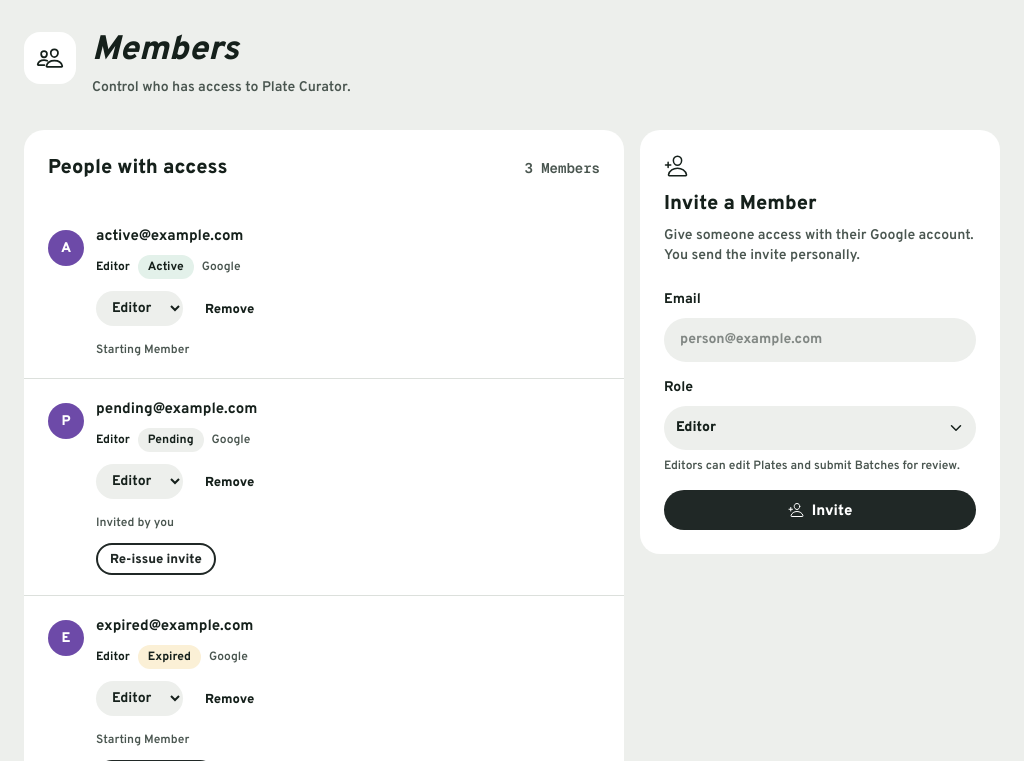
Test case: removal names the email, cancels safely, and restores focus to the row
This screenshot has width=1024, height=761.
Click the button with aria-label "Remove active@example.com".
click(230, 308)  # box [191,292,268,324]
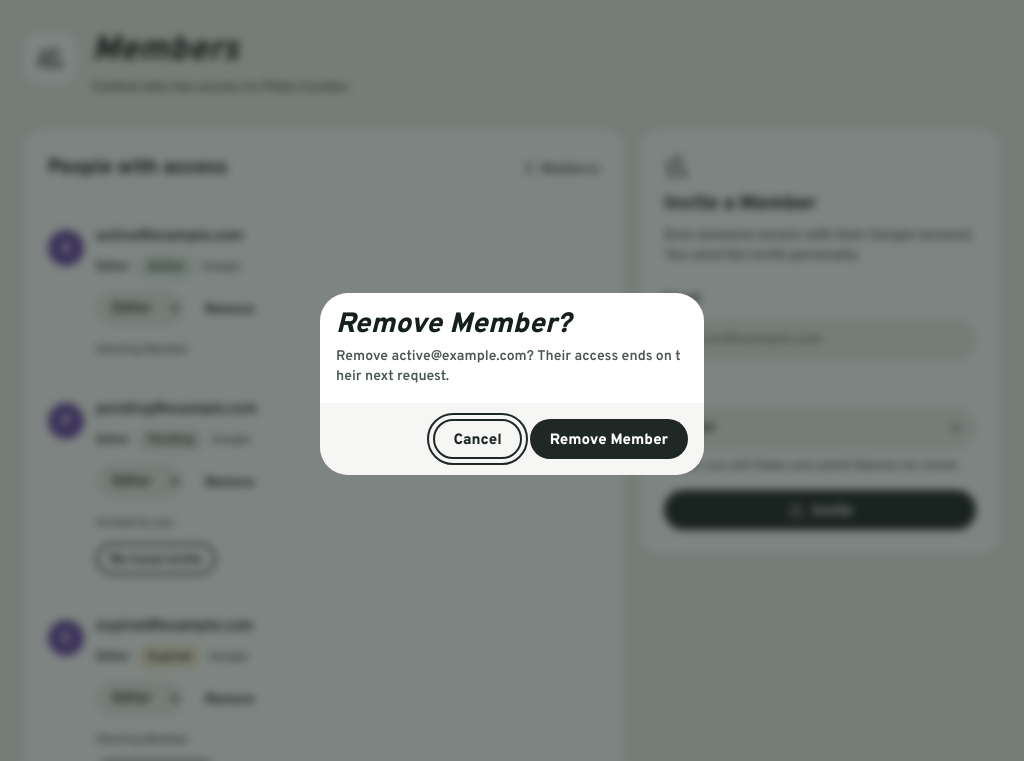
Check: the dialog shows "Remove active@example.com?", box [320,293,704,475]
Click the button "Cancel".
click(478, 439)  # box [433,419,522,459]
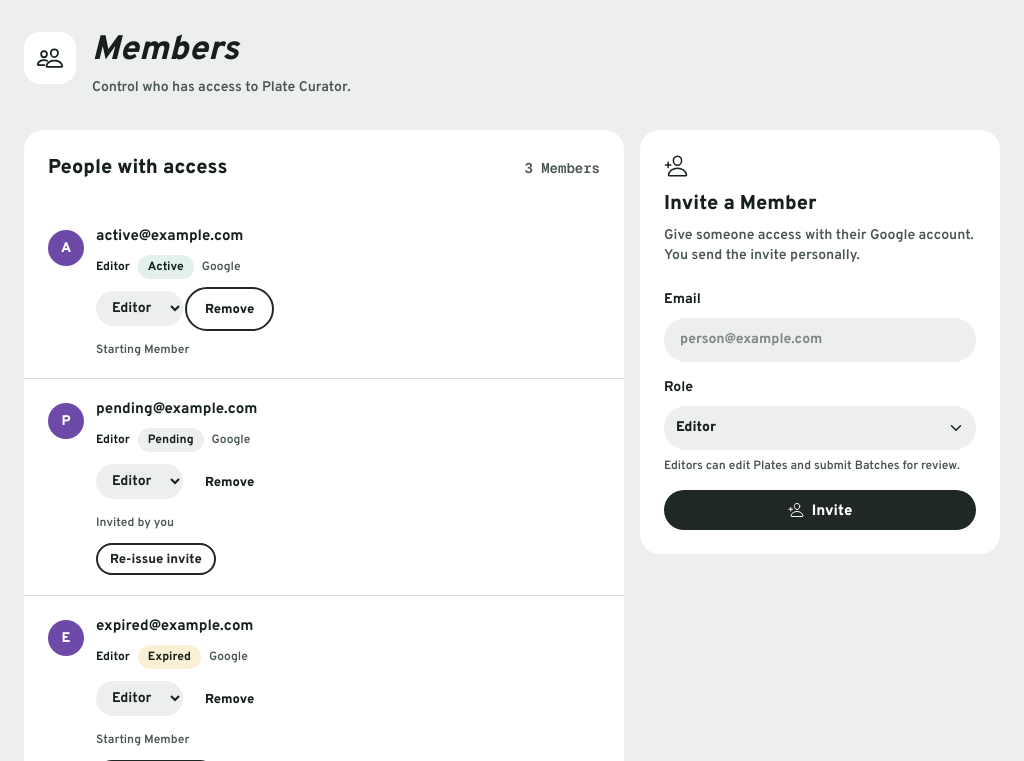
Check: the dialog is gone
